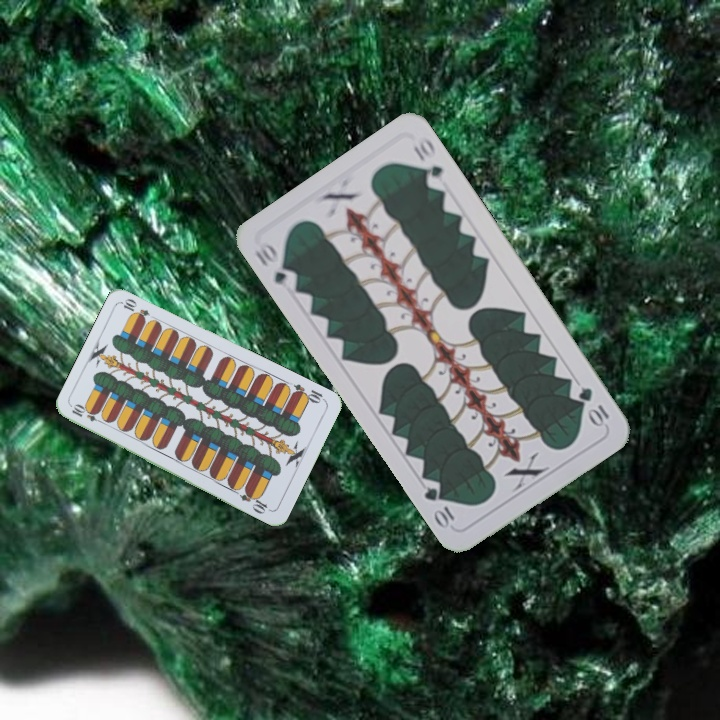E10: (288, 380, 328, 406), (67, 402, 107, 426)
G10: (250, 239, 301, 288), (574, 383, 612, 430)
